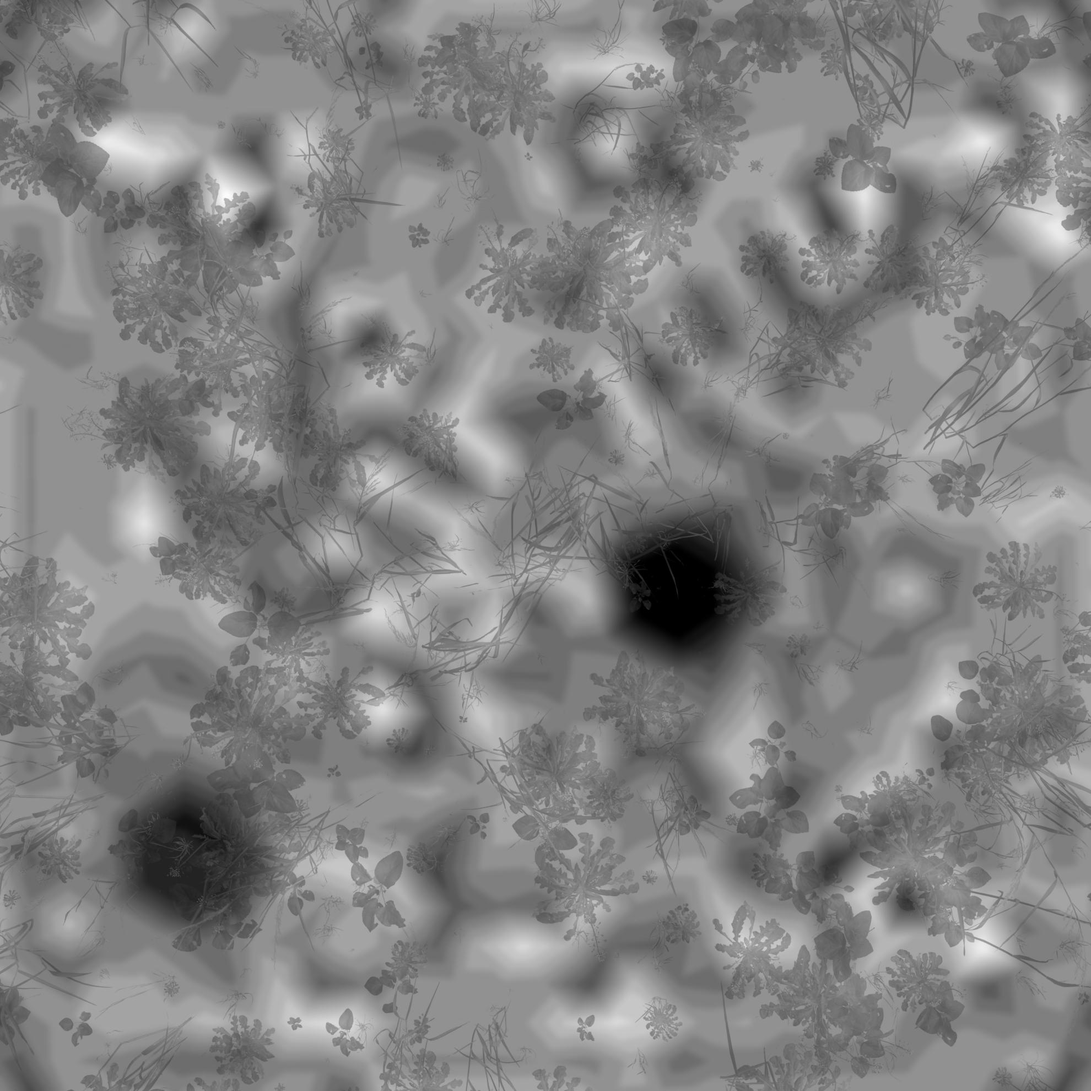landmine: (600, 511, 758, 658), (105, 783, 259, 930)
